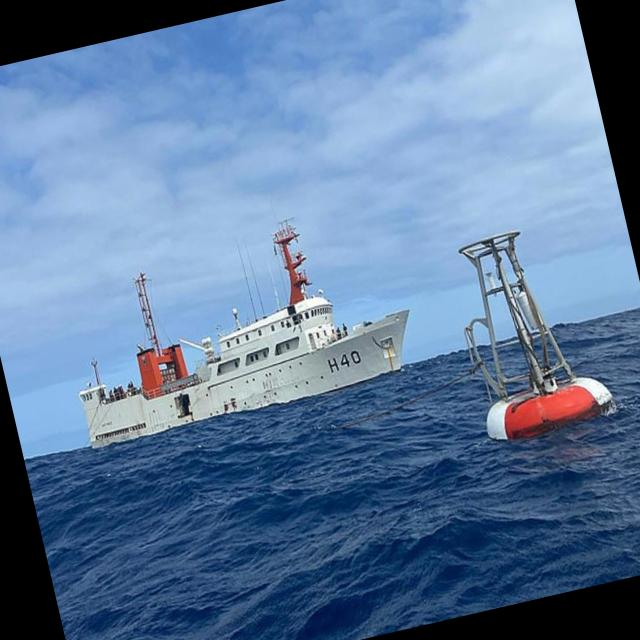Military: (79, 221, 408, 447)
